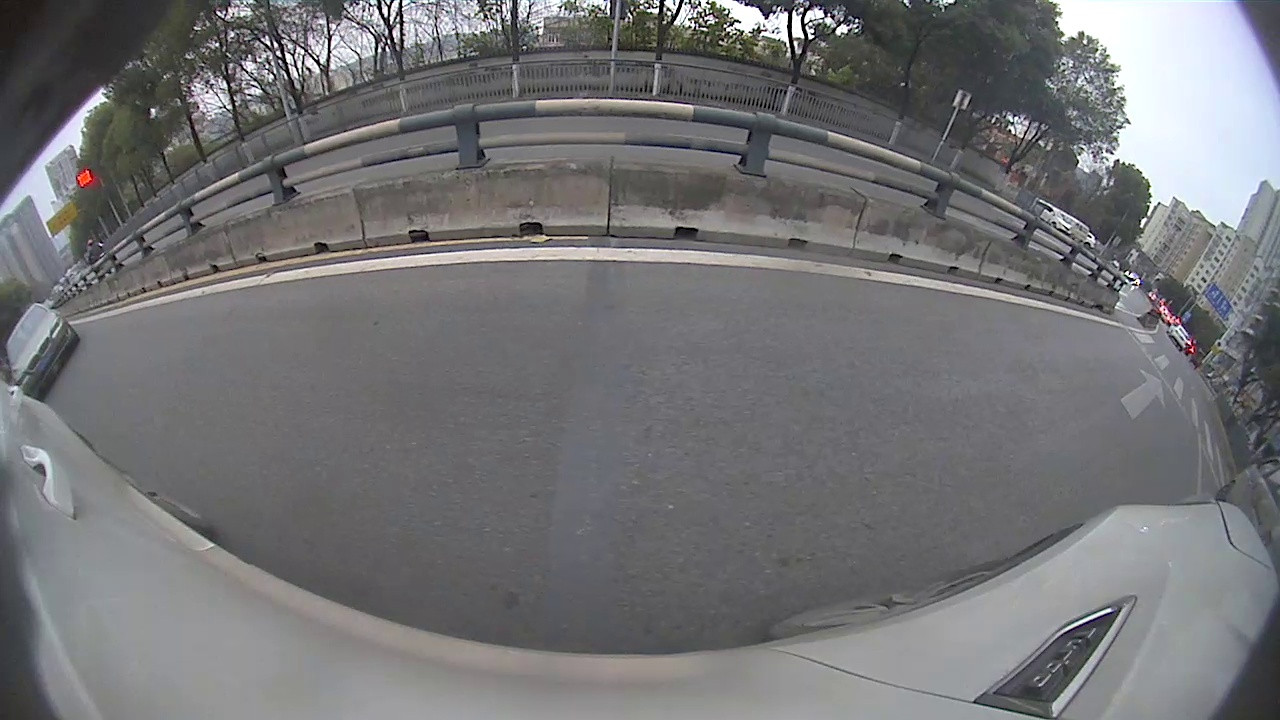car: (3, 301, 82, 404)
